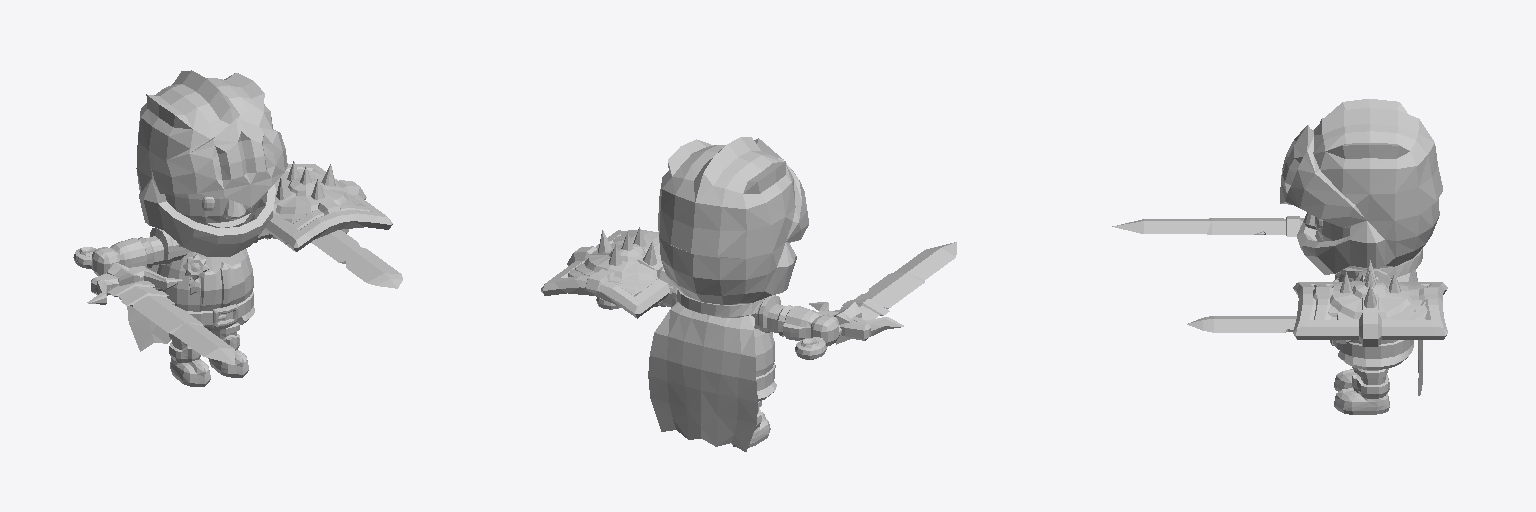
The model's file is knight.obj.
3 renders of one model, left to right at view 1: azimuth 30°, elevation 25°; view 2: azimuth 150°, elevation 25°; view 3: azimuth 270°, elevation 25°, orthographic.
Parts seen in each view (by area): view 1: Knight_Helmet, Knight_Body, 2H_Sword, Knight_ArmRight, Rectangle_Shield, 1H_Sword_Offhand, Spike_Shield, Knight_Head, 1H_Sword, Round_Shield, Knight_LegRight, Knight_Cape (+1 smaller); view 2: Knight_Helmet, Knight_Cape, 2H_Sword, Rectangle_Shield, Knight_ArmRight, Knight_Body, Spike_Shield, 1H_Sword, Round_Shield; view 3: Knight_Helmet, Rectangle_Shield, Spike_Shield, Knight_Body, Round_Shield, Knight_LegLeft, 1H_Sword_Offhand, 2H_Sword, 1H_Sword, Knight_Head.
Part boxes in pixels (x1,y1,x2,y2): Knight_Helmet: (136, 70, 287, 256); Knight_Body: (156, 242, 254, 331); 2H_Sword: (73, 247, 235, 364); Knight_ArmRight: (92, 228, 189, 275); Rectangle_Shield: (265, 164, 392, 251); 1H_Sword_Offhand: (311, 229, 402, 288); Spike_Shield: (266, 161, 370, 245); Knight_Head: (165, 194, 260, 227); 1H_Sword: (77, 256, 202, 333); Round_Shield: (275, 172, 358, 223); Knight_LegRight: (169, 333, 210, 386); Knight_Cape: (127, 264, 171, 351); Knight_Helmet: (658, 137, 808, 304); Knight_Cape: (648, 302, 757, 451); 2H_Sword: (795, 242, 956, 359); Rectangle_Shield: (541, 230, 669, 318); Knight_ArmRight: (751, 295, 838, 346); Knight_Body: (676, 289, 776, 401); Spike_Shield: (567, 227, 673, 293); 1H_Sword: (800, 273, 924, 355); Round_Shield: (575, 239, 661, 285); Knight_Helmet: (1280, 99, 1442, 274); Rectangle_Shield: (1293, 282, 1447, 339); Spike_Shield: (1311, 260, 1442, 346); Knight_Body: (1330, 248, 1422, 369); Round_Shield: (1328, 281, 1422, 319); Knight_LegLeft: (1334, 368, 1389, 414); 1H_Sword_Offhand: (1187, 316, 1350, 343); 2H_Sword: (1112, 216, 1300, 236); 1H_Sword: (1207, 218, 1304, 234); Knight_Head: (1303, 212, 1350, 241).
Bounding box in the file's own units: 2.69 × 2.47 × 2.58.